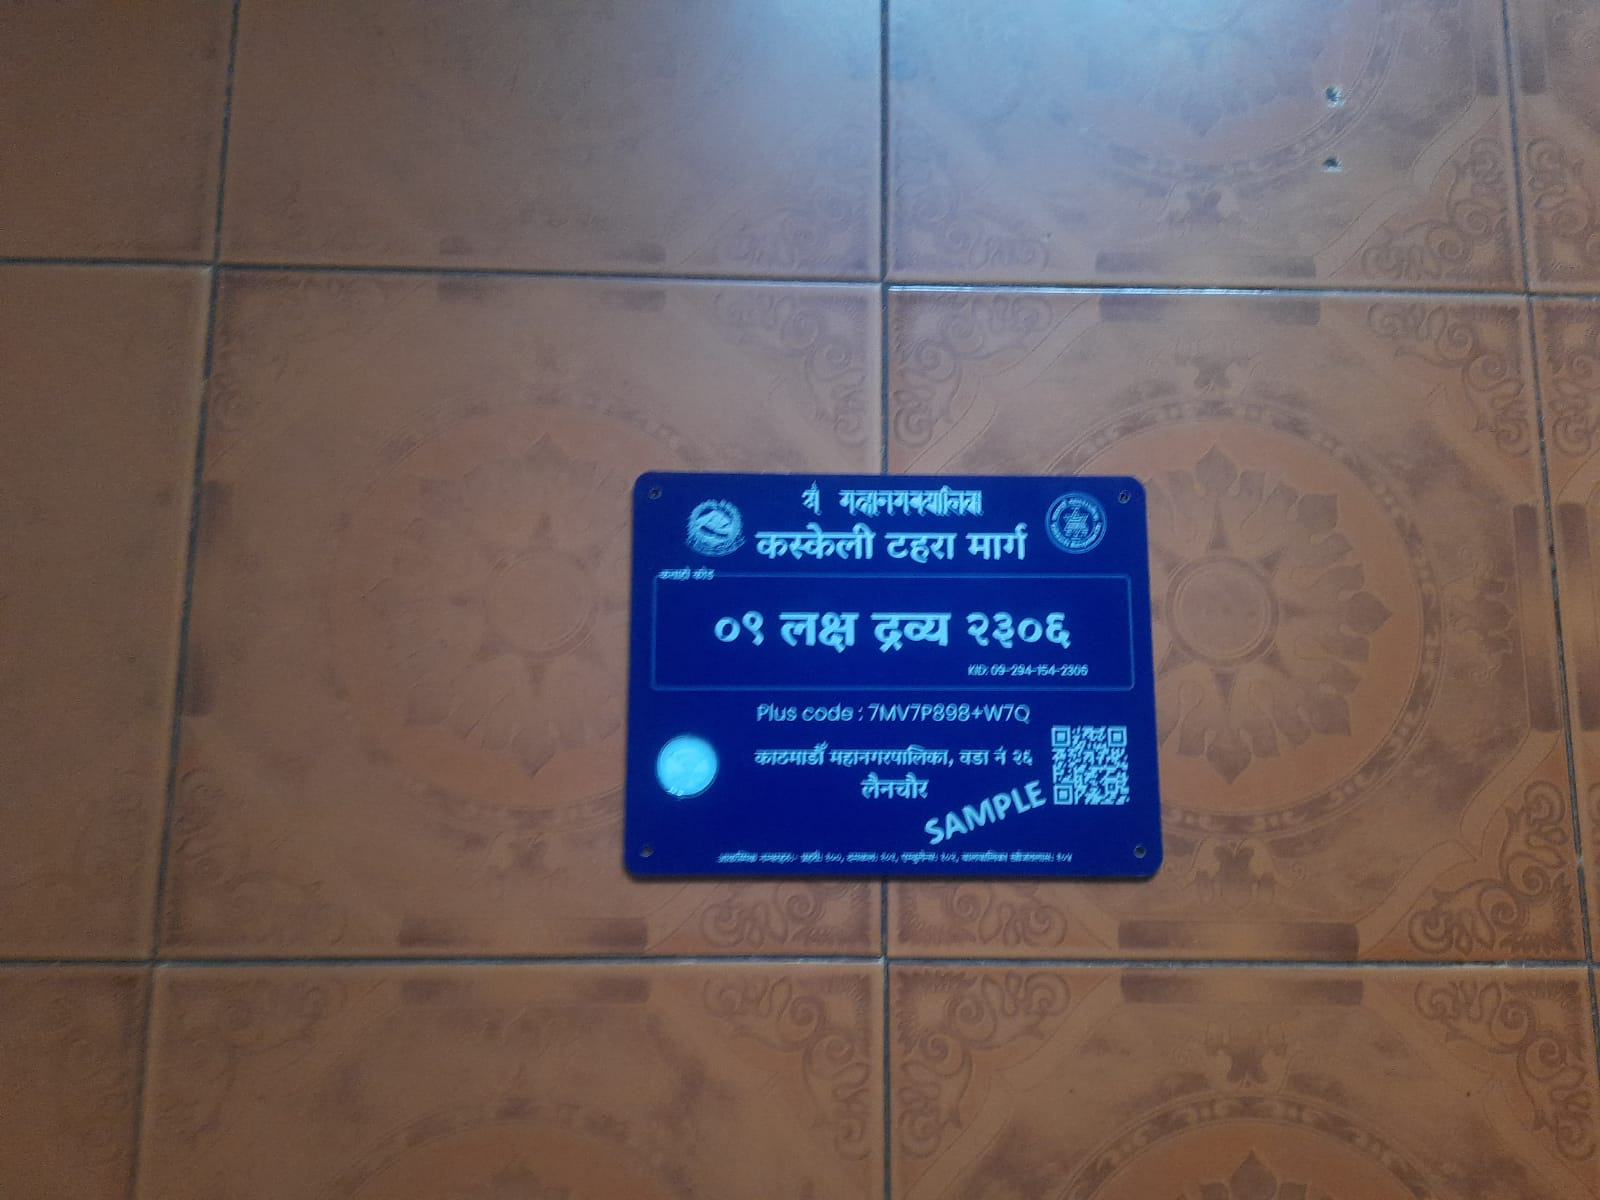Plate: (620, 466, 1172, 887)
